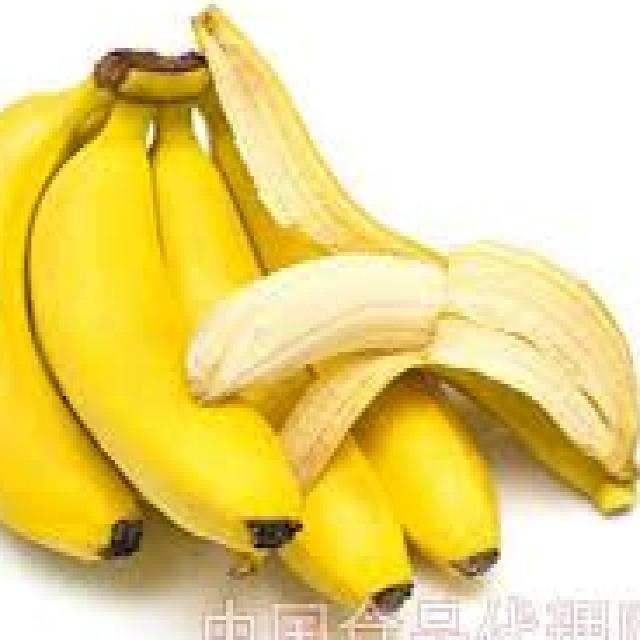inorganic: (6, 12, 627, 604)
